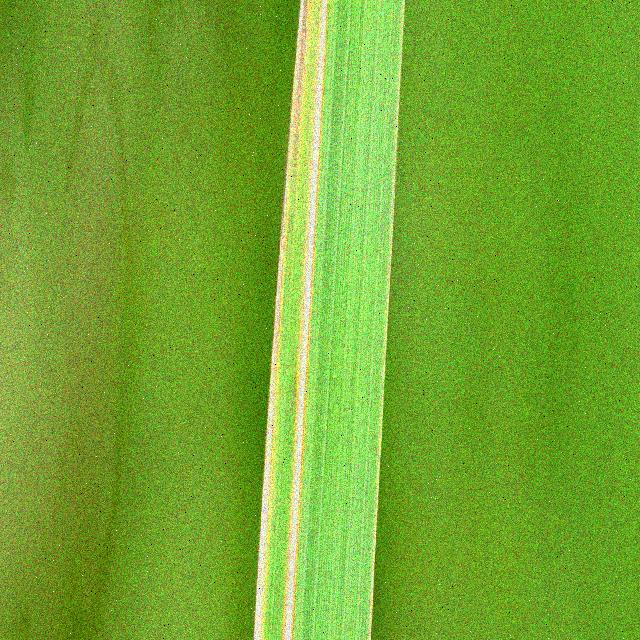BLB: (254, 0, 312, 640), (283, 0, 330, 640)
